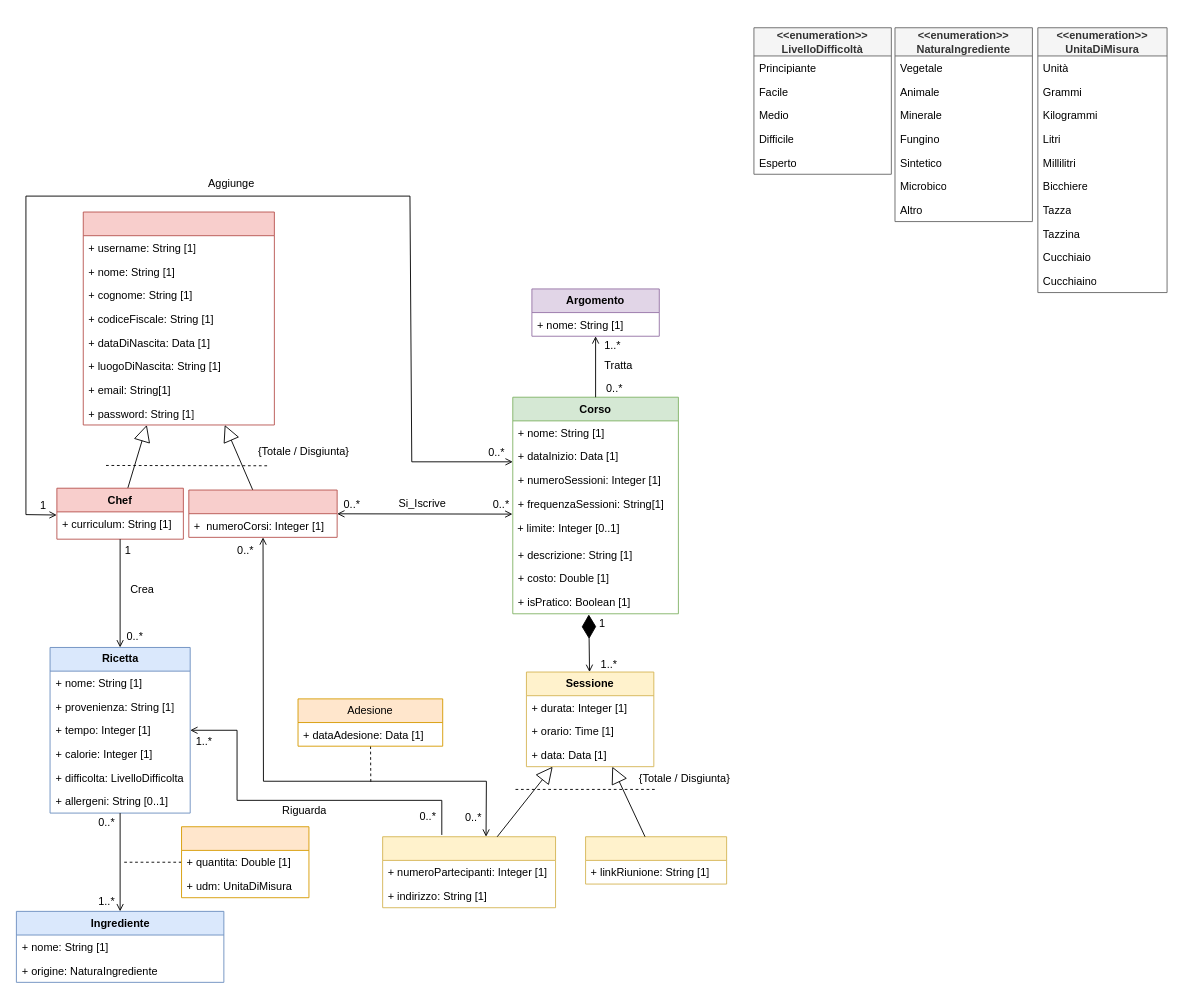
Image size: 1183x1001. Some labels were removed from this diagram. The shapes that lost their labels are listed below. From the top down, each one's box as (x1, y1, x2, y2) in pixels, then its label:
(82, 211, 274, 425): Utente
(188, 489, 337, 537): Partecipante
(181, 826, 309, 898): Utilizzo
(382, 836, 556, 908): SessionePratica
(585, 836, 727, 884): SessioneOnline
